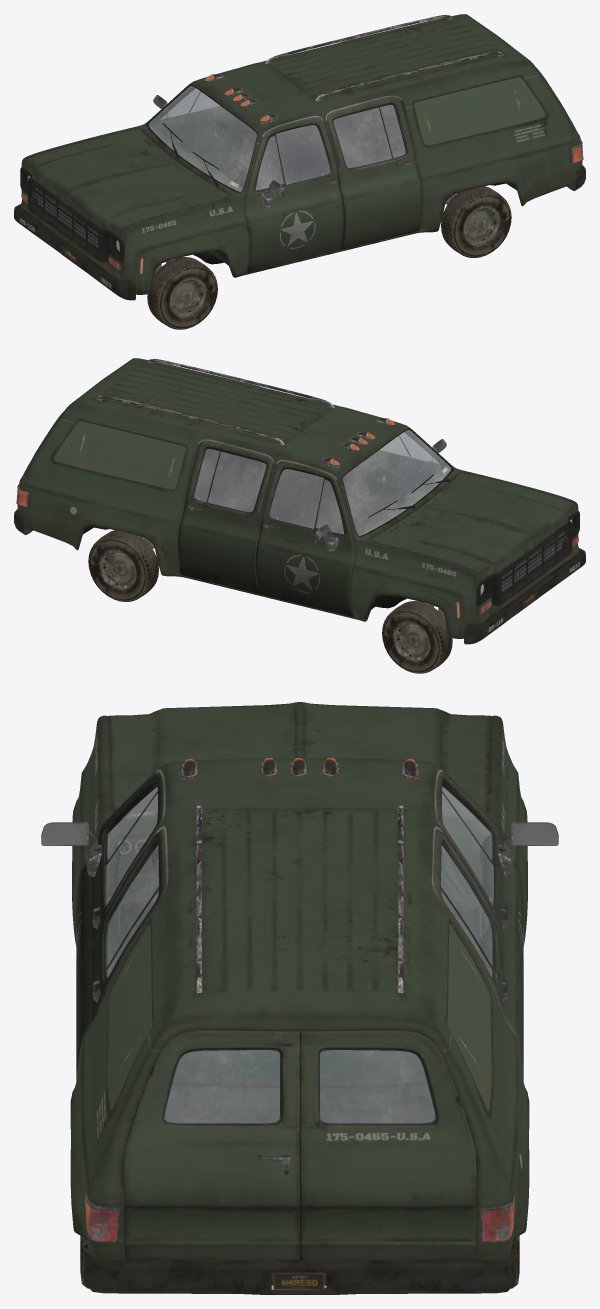
The model's file is truck.glb.
The picture shows the model from 3 angles, top to bottom: view 1: azimuth 30°, elevation 25°; view 2: azimuth 150°, elevation 25°; view 3: azimuth 270°, elevation 25°; orthographic projection. The views are drawn at different scales.
Parts seen in each view (by area): view 1: defaultMaterial (×3); view 2: defaultMaterial (×3); view 3: defaultMaterial (×3).
Part boxes in pixels (left/top/right/bottom): defaultMaterial (×3): left=14, top=14, right=585, bottom=329; defaultMaterial (×3): left=14, top=358, right=585, bottom=673; defaultMaterial (×3): left=41, top=702, right=558, bottom=1294.
Bounding box in the file's own units: 4.91 × 1.74 × 2.32.
Materials: 3 (3 with a texture image).
